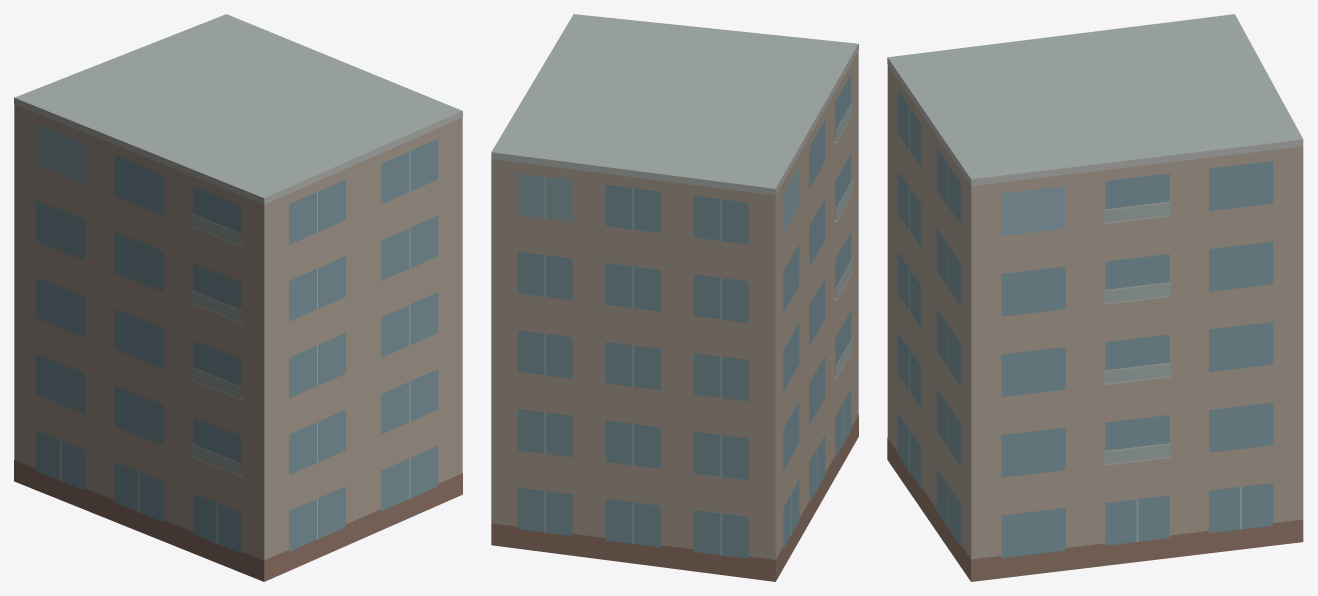
The model's file is survey-upis-32562360.glb.
3 views of the same model, side by side, from view 1: azimuth 30°, elevation 25°; view 2: azimuth 150°, elevation 25°; view 3: azimuth 270°, elevation 25° (orthographic). The views are drawn at different scales.
Parts seen in each view (by area): view 1: survey-upis-32562360.tmp; view 2: survey-upis-32562360.tmp; view 3: survey-upis-32562360.tmp.
Part boxes in pixels (x1,y1,x2,y2): survey-upis-32562360.tmp: (14,14,462,581); survey-upis-32562360.tmp: (491,14,858,581); survey-upis-32562360.tmp: (887,14,1303,581).
Bounding box in the file's own units: 12.61 × 14.3 × 13.4.
